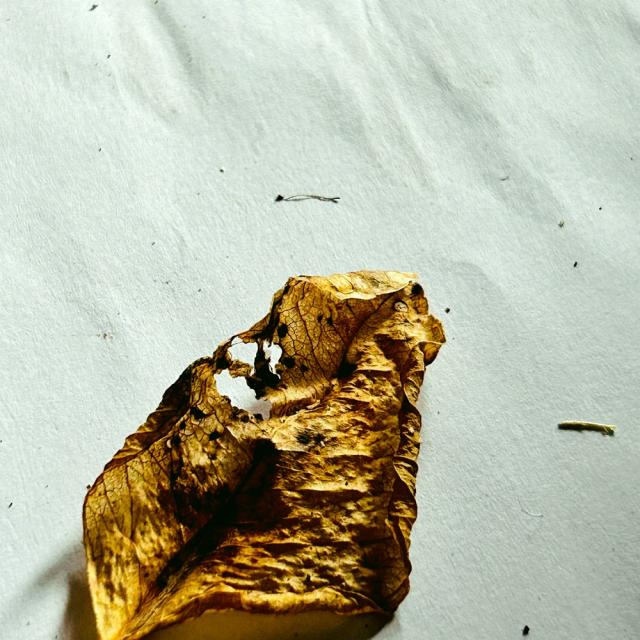DryLeaf_Lemon: (83, 271, 445, 639)
